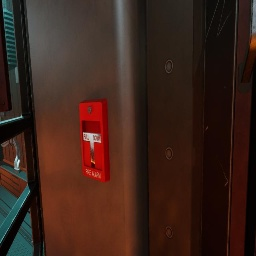FireAlarm ,: (79, 98, 110, 182)
